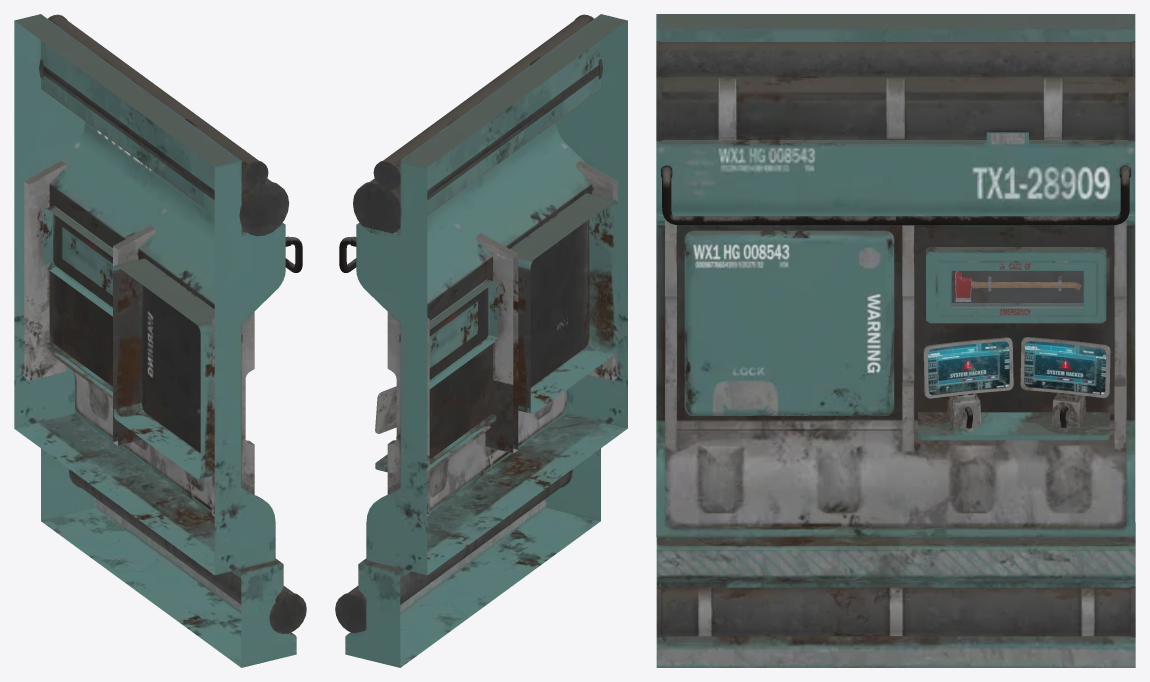
Rendered from wall-4.glb.
The picture shows the model from 3 angles, left to right: view 1: azimuth 30°, elevation 25°; view 2: azimuth 150°, elevation 25°; view 3: azimuth 270°, elevation 25°; orthographic projection. The views are drawn at different scales.
Parts seen in each view (by area): view 1: defaultMaterial; view 2: defaultMaterial; view 3: defaultMaterial.
Boxes of the visible parts, left/top/right/bottom form: defaultMaterial: left=14, top=14, right=306, bottom=667; defaultMaterial: left=335, top=14, right=627, bottom=667; defaultMaterial: left=656, top=14, right=1135, bottom=667.
Size of the model in its own units: 0.3897 by 2 by 1.43.
Materials: 1 (1 with a texture image).
